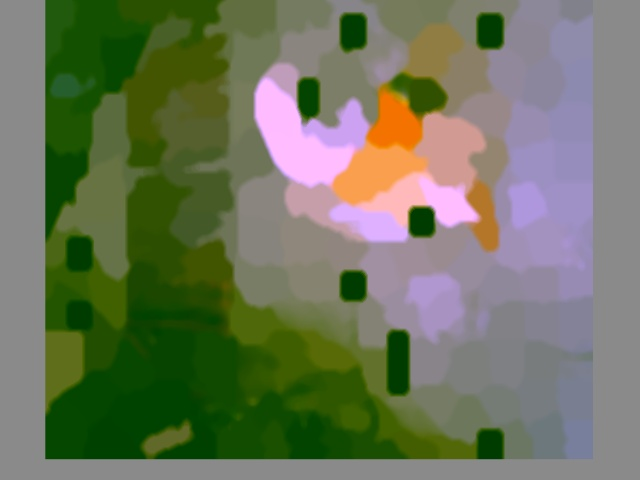three: (288, 112, 328, 154)
